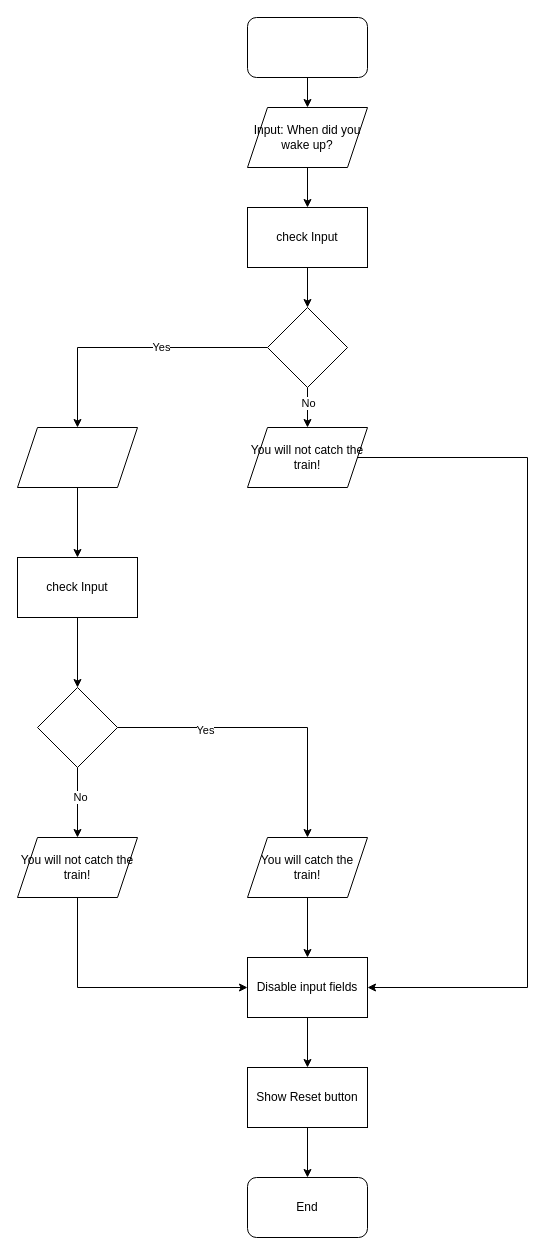
This 553x1255 diagram has some shape labels left out. Each missing label, with the box of its shape:
Before 10am?: (36, 686, 118, 768)
Before 8:30am?: (266, 306, 348, 388)
Input: When did you finish breakfast?: (16, 426, 138, 488)
Start: (246, 16, 368, 78)
